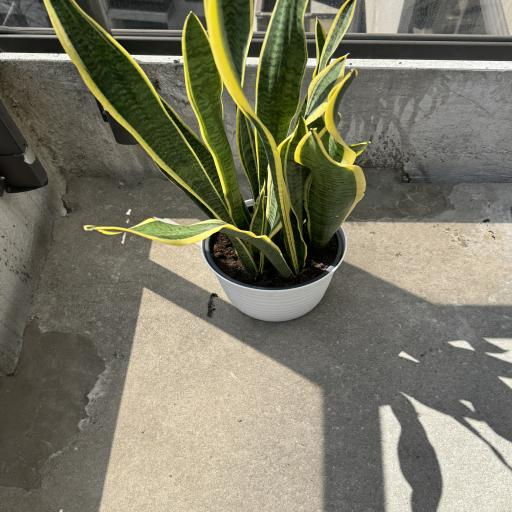Plant Pot: (198, 199, 347, 321)
